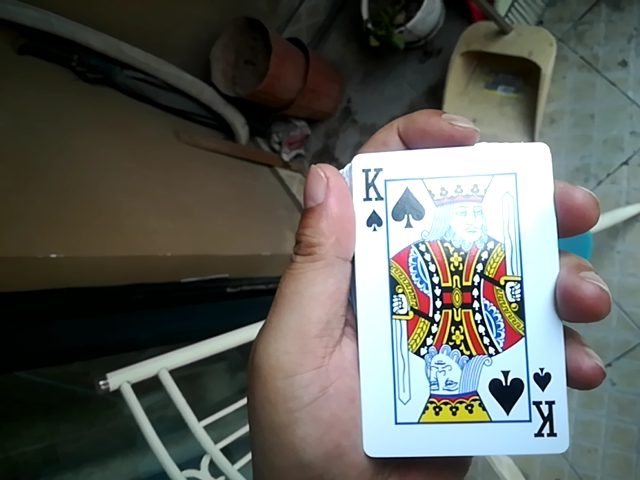ht k: (346, 153, 559, 457)
